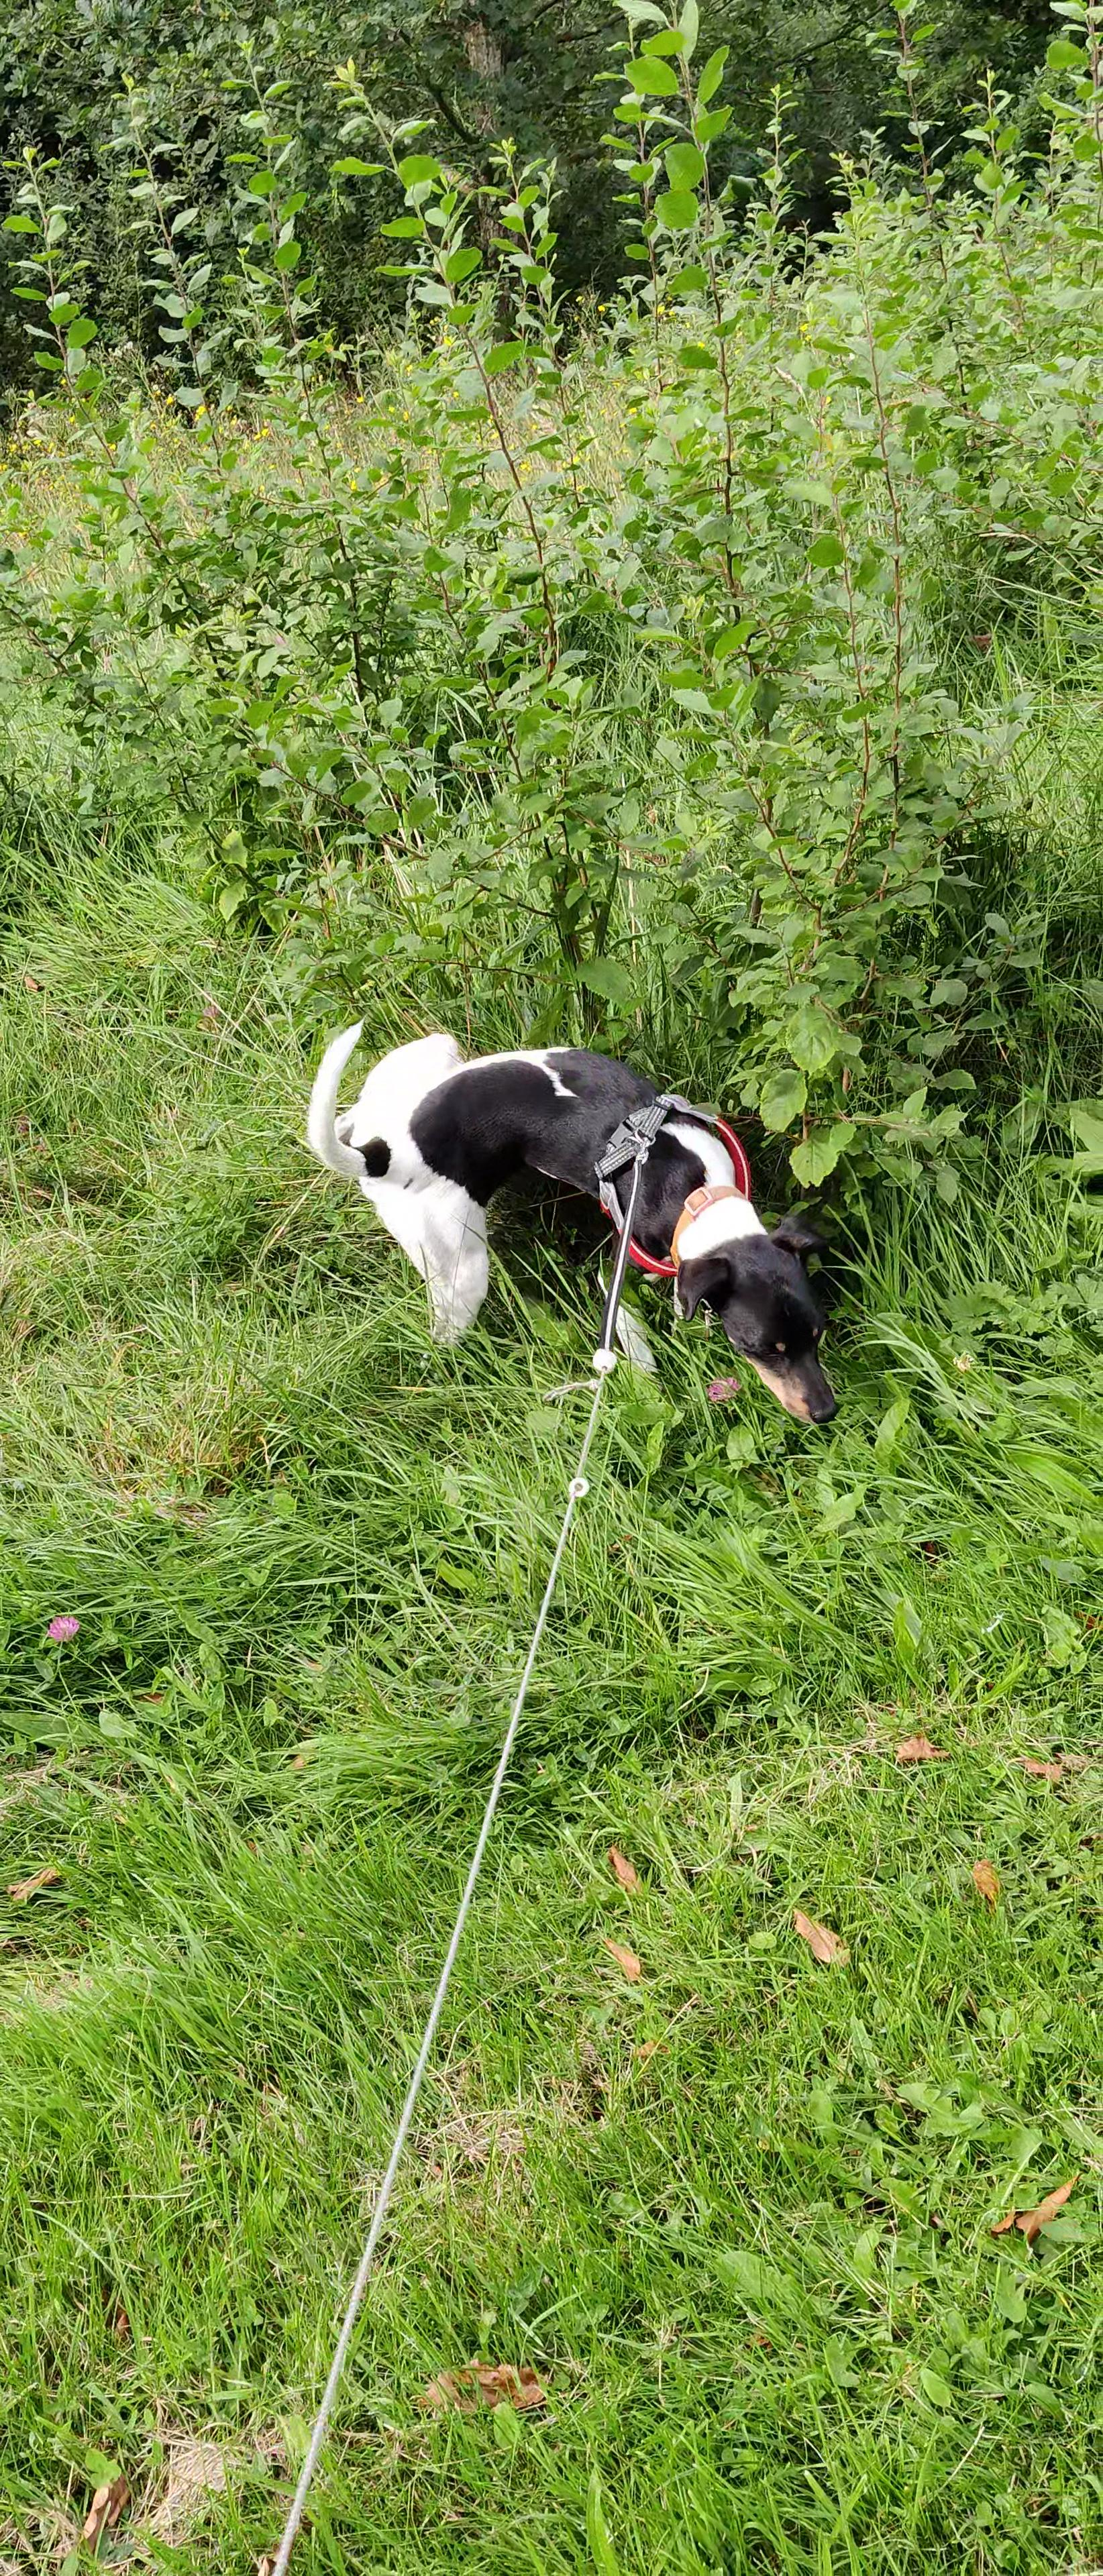Dog: (298, 987, 858, 1442)
